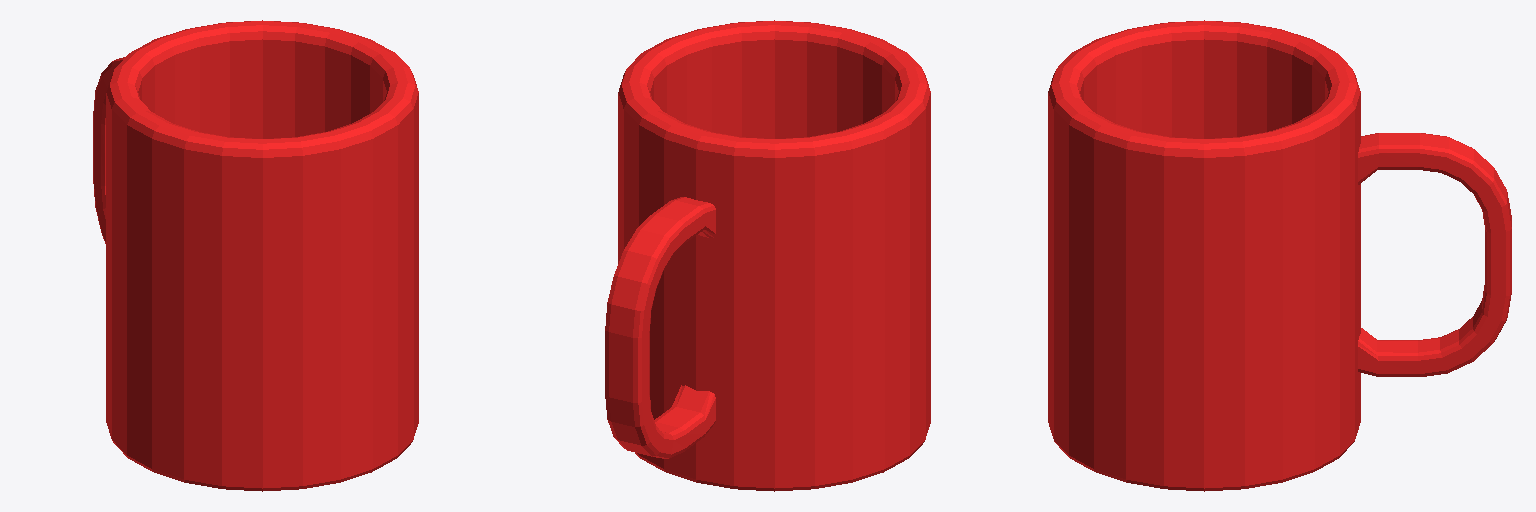
robot.urdf — mug:
<robot name="mug">
    <link name="base_link">
        <contact>
            <lateral_friction value="1.0"/>
        </contact>
        <inertial>
            <origin xyz="0 0 0"/>
            <mass value="1"/>
            <inertia ixx="1" ixy="0" ixz="0" iyy="1" iyz="0" izz="1"/>
        </inertial>
        <visual>
            <origin xyz="0 0 0"/>
            <geometry>
                <mesh filename="mug.obj"/>
            </geometry>
      <material name="mug">
        <color rgba="1 0.2 0.2 1"/>
        <specular rgb="1 1 1"/>
      </material>
        </visual>
        <collision>
            <origin xyz="0 0 0"/>
            <geometry>
                <mesh filename="mug_col.obj"/>
            </geometry>
        </collision>
    </link>
</robot>

--- Render facts (derived) ---
The picture shows the robot from 3 angles, left to right: view 1: azimuth 30°, elevation 25°; view 2: azimuth 150°, elevation 25°; view 3: azimuth 270°, elevation 25°; orthographic projection.
Robot: mug — 1 links, 0 joints (none); root link base_link; default pose: every joint at zero.
Links seen in each view (by area): view 1: base_link; view 2: base_link; view 3: base_link.
Boxes of the visible links, x1,y1,x2,y2 form: base_link: (93, 20, 418, 491); base_link: (605, 20, 930, 491); base_link: (1048, 20, 1511, 491).
Size in the robot's own frame: 0.082 by 0.1216 by 0.1 metres.
Meshes: 1 distinct files referenced, 1 mesh visuals loaded (1 OBJ).